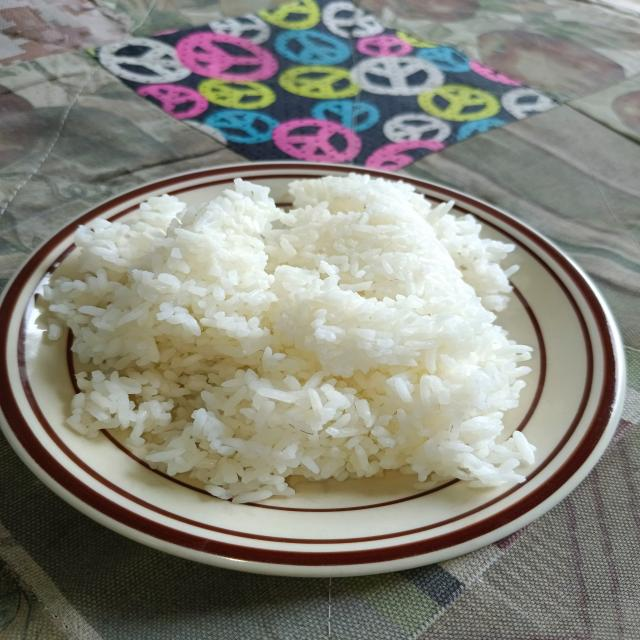Chicken -Chicken Inasal-: (100, 183, 501, 481)
